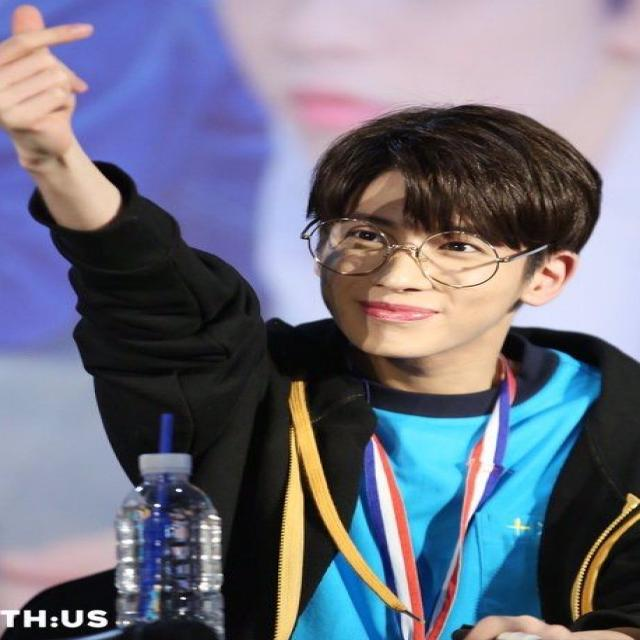Glasses: (288, 208, 557, 288)
